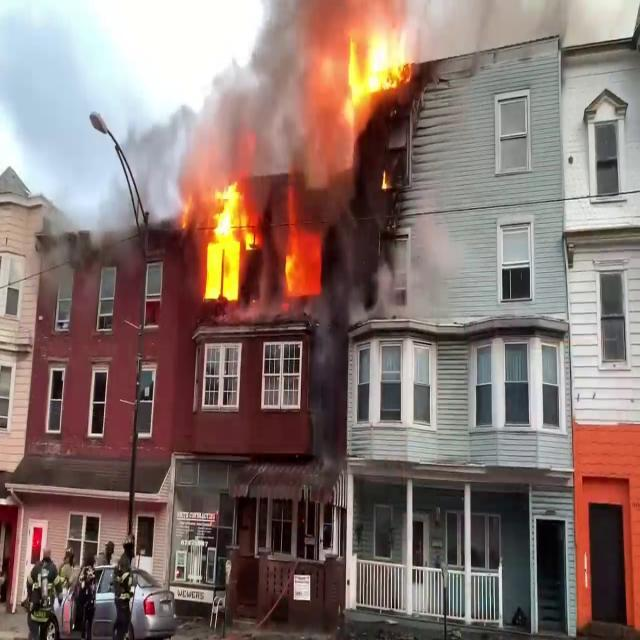Fire: (329, 3, 414, 128), (196, 174, 262, 310), (277, 202, 324, 306)
Smoke: (165, 0, 415, 186), (165, 0, 339, 186)
